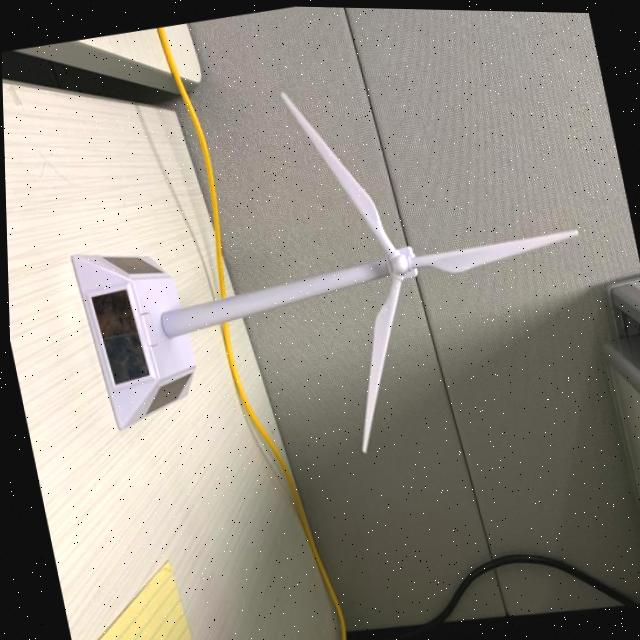solid-blade: (280, 91, 393, 252), (409, 227, 576, 271), (357, 276, 399, 450)
